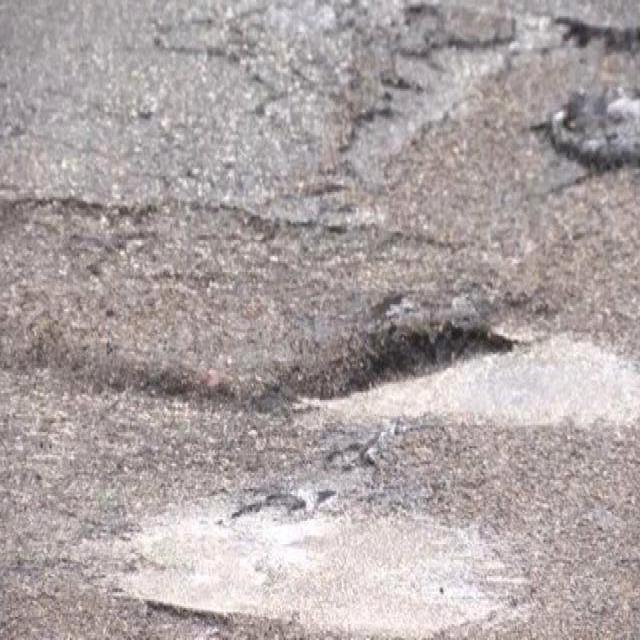jalan retak: (145, 0, 500, 160), (200, 412, 448, 556)
lubang: (1, 169, 522, 441), (530, 64, 638, 202), (537, 0, 639, 90)
